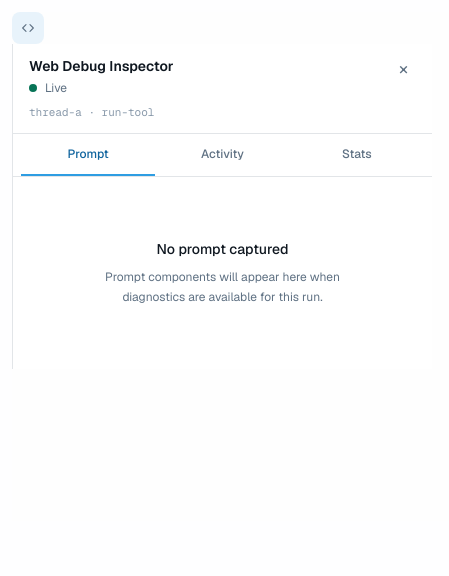
it: tool details can retry after a transient request failure
This screenshot has width=449, height=576.
Click the tab with test id "inspector-tab-activity".
click(222, 154)  # box [155,134,290,176]
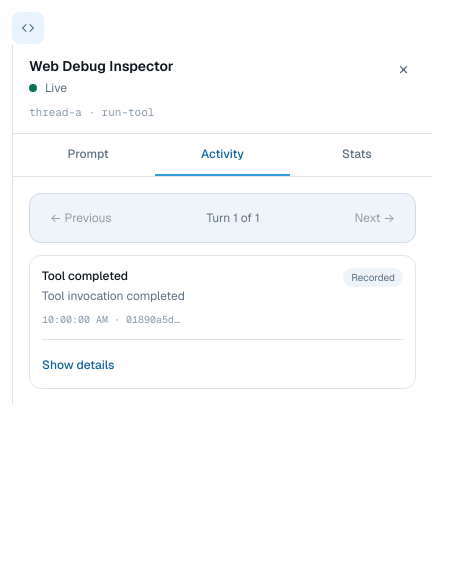
Click the button "Show details".
click(78, 364)  # box [42,356,114,372]
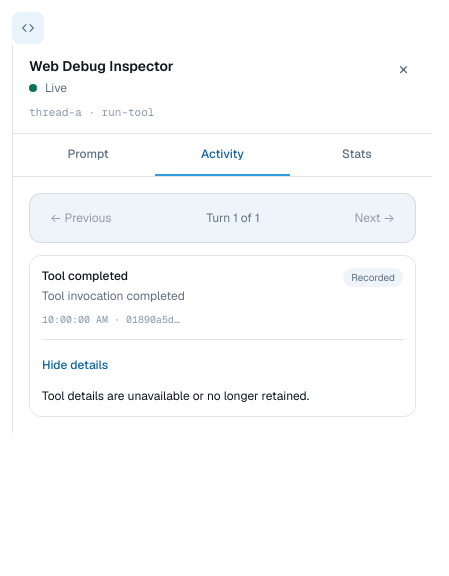
Expected: the text "Tool details are unavailable" is shown, [42,388,309,404]
Click the button "Hide details".
click(75, 364)  # box [42,356,108,372]
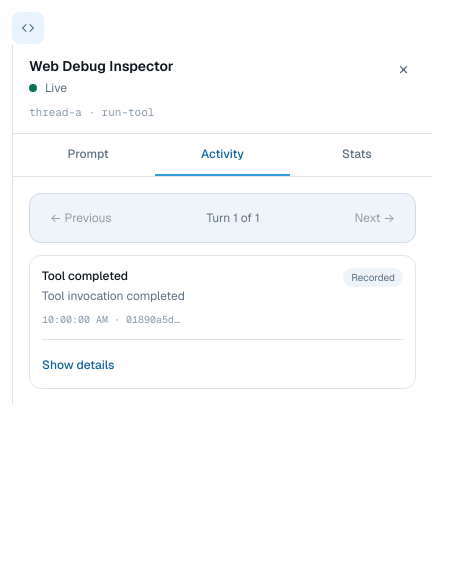
Click the button "Show details".
click(78, 364)  # box [42,356,114,372]
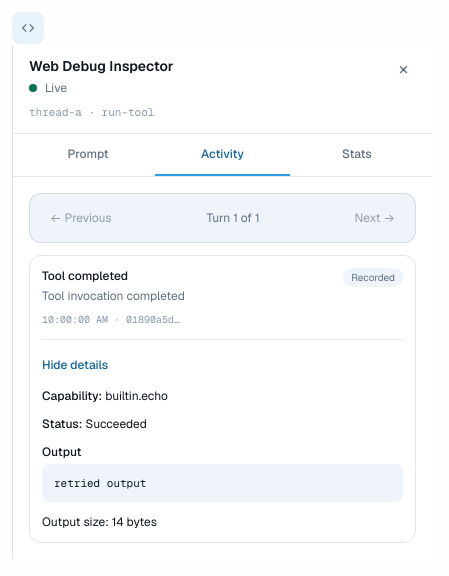
Expected: the text "retried output" is shown, [42,464,403,502]
